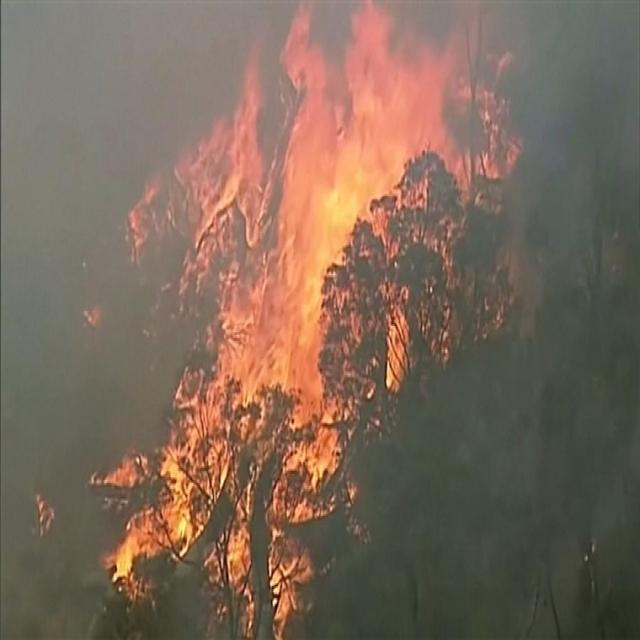Fire: (94, 9, 518, 637), (392, 150, 470, 360), (454, 75, 524, 209), (384, 284, 416, 387), (301, 422, 336, 488), (339, 481, 363, 508), (32, 486, 46, 531), (242, 587, 255, 630), (267, 520, 281, 548), (81, 300, 98, 322), (300, 558, 316, 580), (105, 542, 116, 570), (86, 466, 101, 484), (198, 555, 208, 574)
